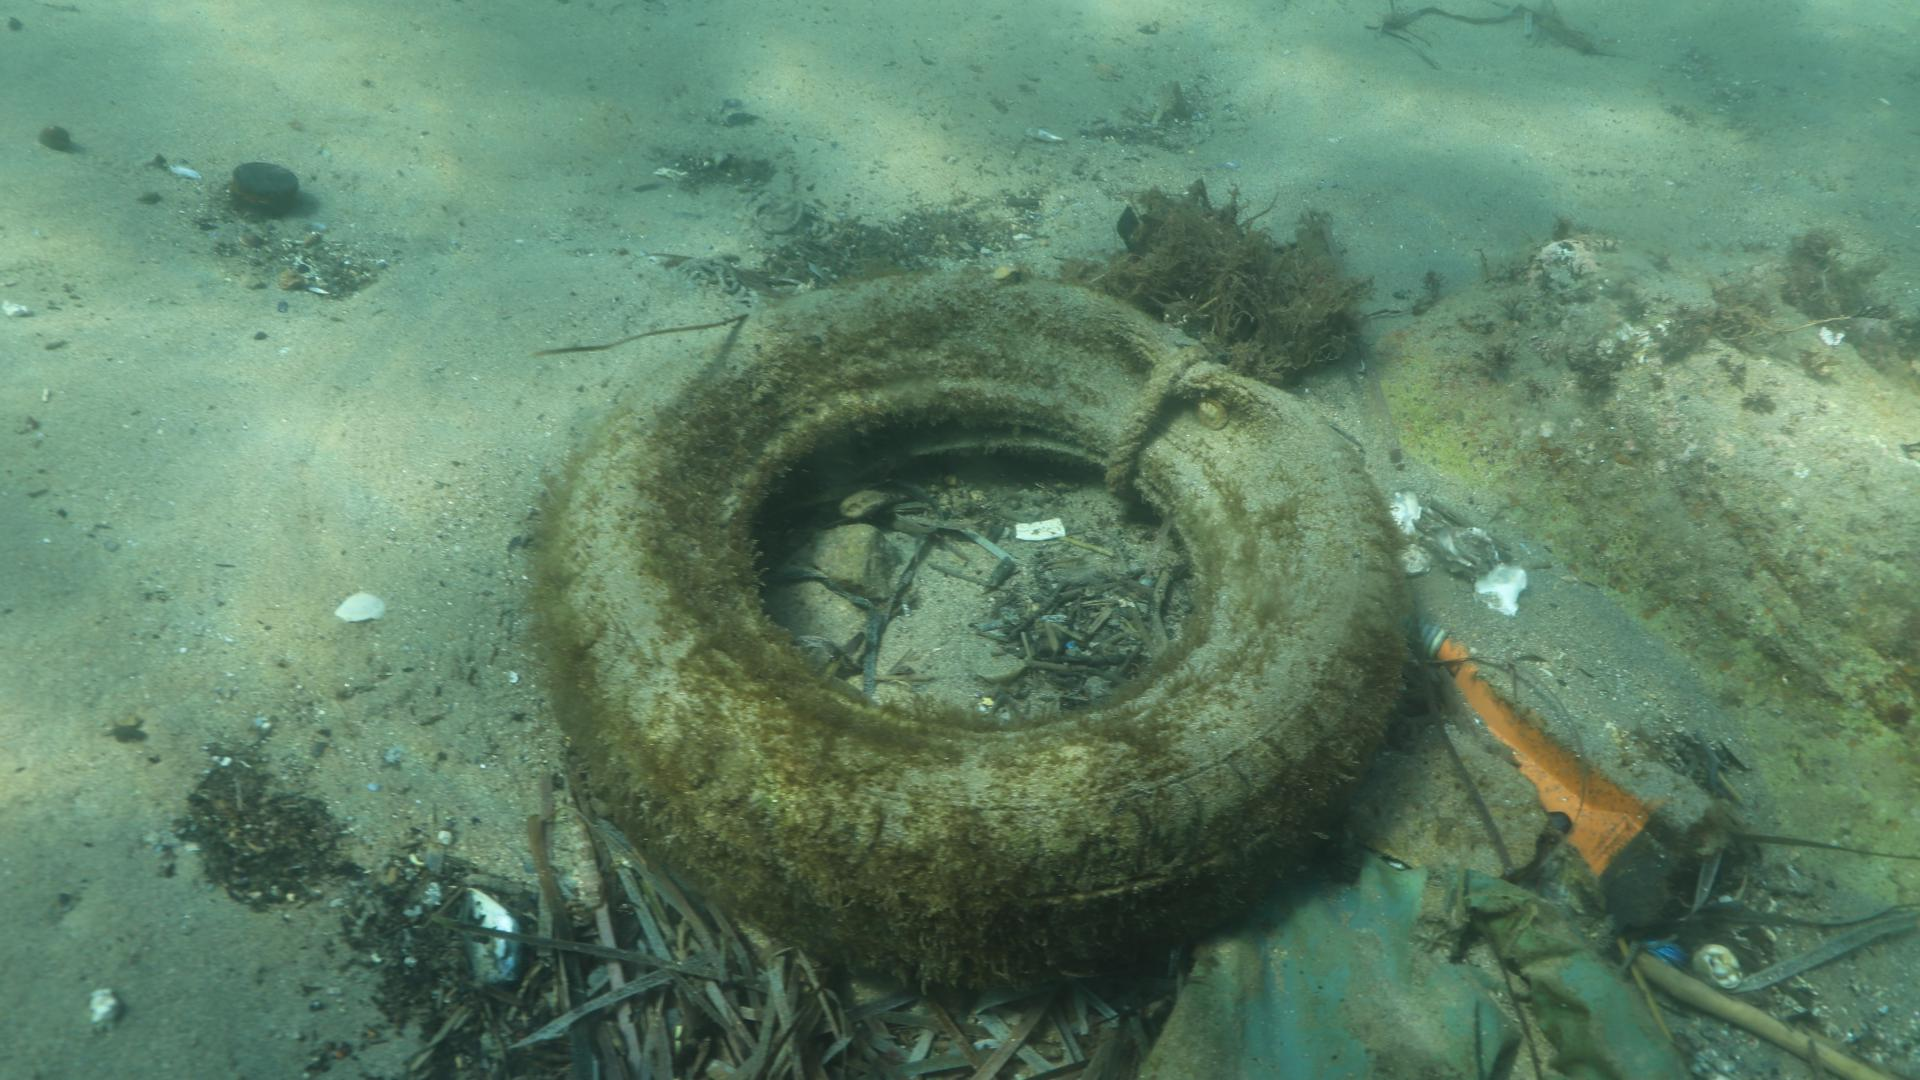rope: (1104, 342, 1209, 505)
tire: (554, 278, 1408, 990)
